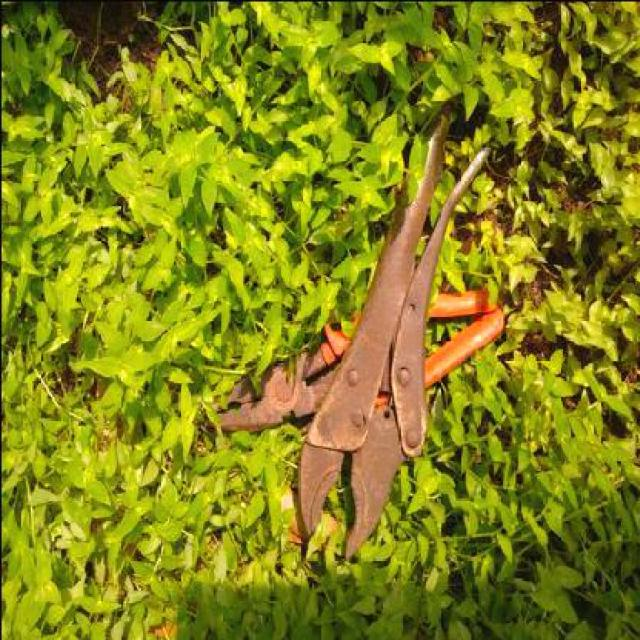Pliers: (292, 134, 491, 560)
